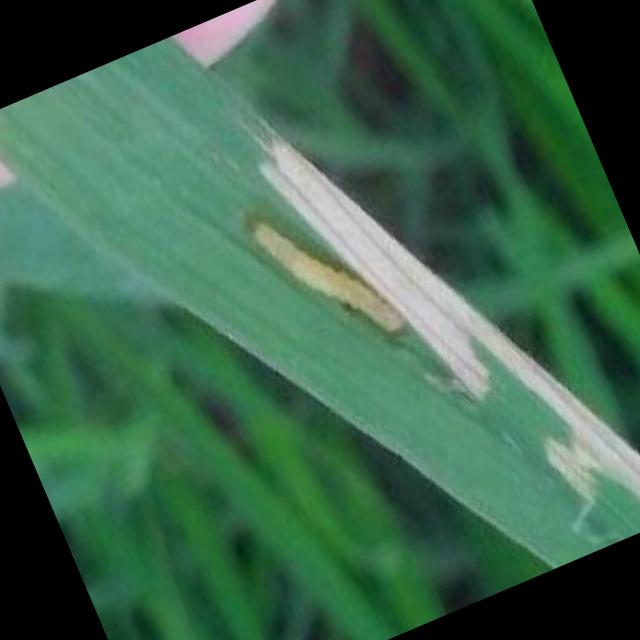leaf-folder: (204, 133, 454, 410)
